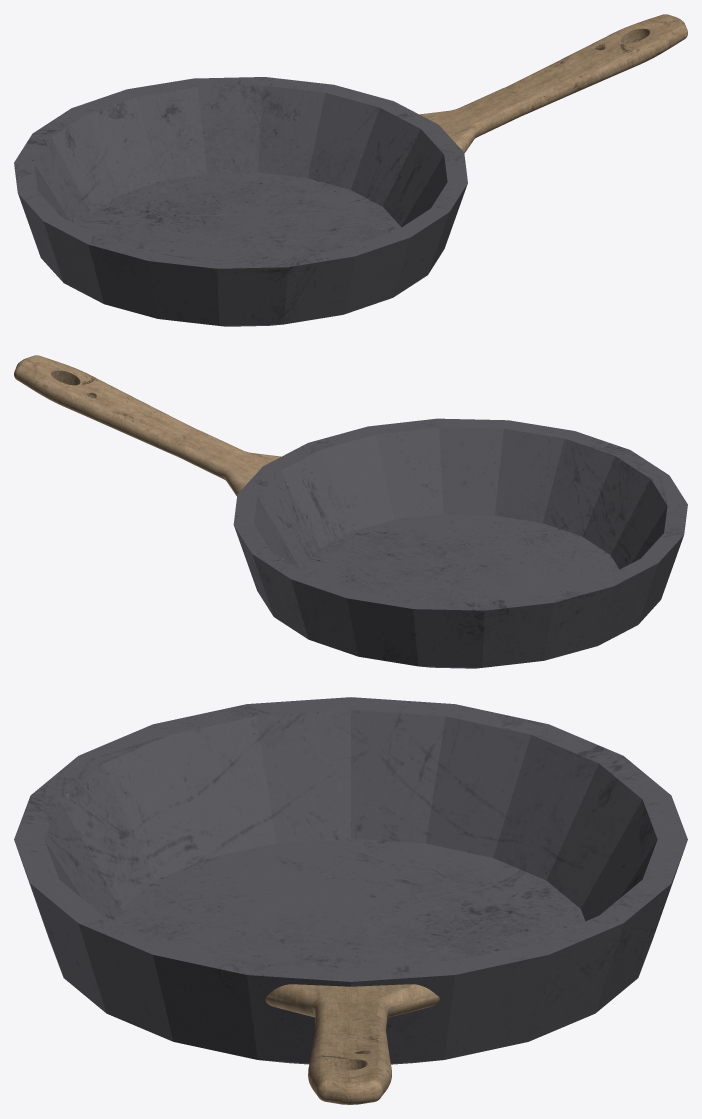
File: Pan.fbx
The picture shows the model from 3 angles, top to bottom: view 1: azimuth 30°, elevation 25°; view 2: azimuth 150°, elevation 25°; view 3: azimuth 270°, elevation 25°; orthographic projection. The views are drawn at different scales.
Visible parts, largest first — view 1: pCylinder1, polySurface2; view 2: pCylinder1, polySurface2; view 3: pCylinder1, polySurface2.
Boxes of the visible parts, bbox=[...] form: pCylinder1: bbox=[14, 77, 467, 326]; polySurface2: bbox=[414, 14, 687, 153]; pCylinder1: bbox=[233, 418, 687, 668]; polySurface2: bbox=[14, 355, 287, 495]; pCylinder1: bbox=[14, 697, 687, 1064]; polySurface2: bbox=[265, 984, 439, 1104].
Size of the model in its own units: 3.24 by 0.694 by 2.
